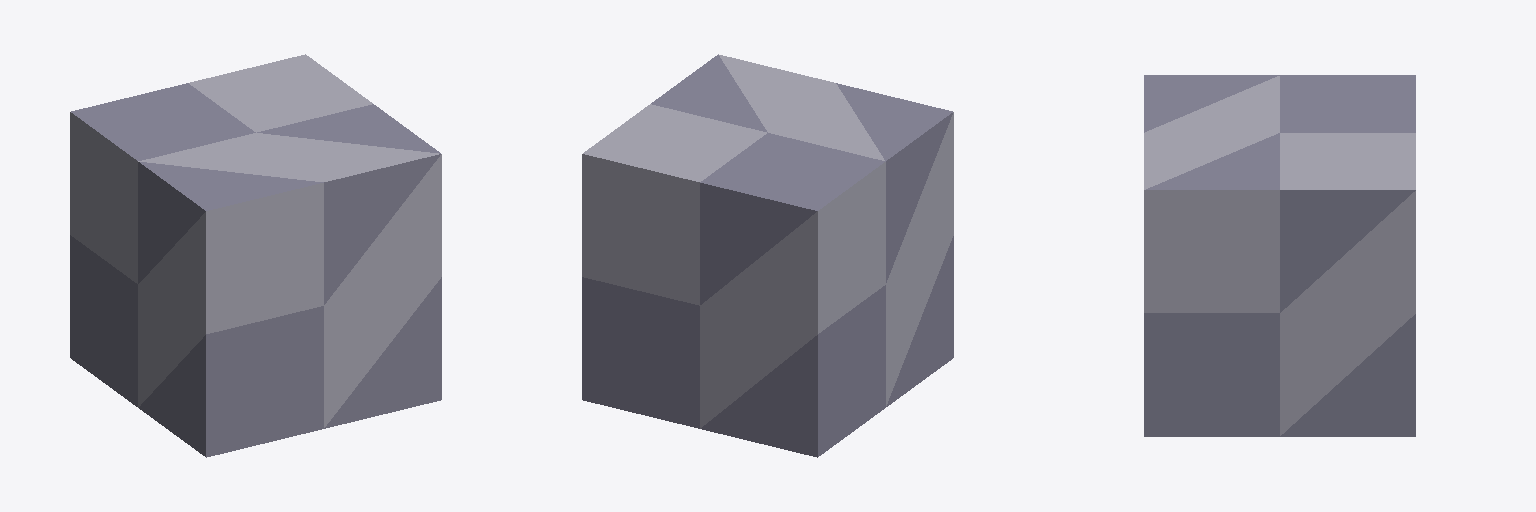
3 renders of one model, left to right at view 1: azimuth 30°, elevation 25°; view 2: azimuth 150°, elevation 25°; view 3: azimuth 270°, elevation 25°, orthographic.
Visible parts, largest first — view 1: Cube; view 2: Cube; view 3: Cube.
Part boxes in pixels (left/top/right/bottom): Cube: left=70, top=54, right=441, bottom=457; Cube: left=582, top=54, right=953, bottom=457; Cube: left=1144, top=75, right=1415, bottom=436.
Size of the model in its own units: 4 by 4 by 4.
1 materials, 1 textured.